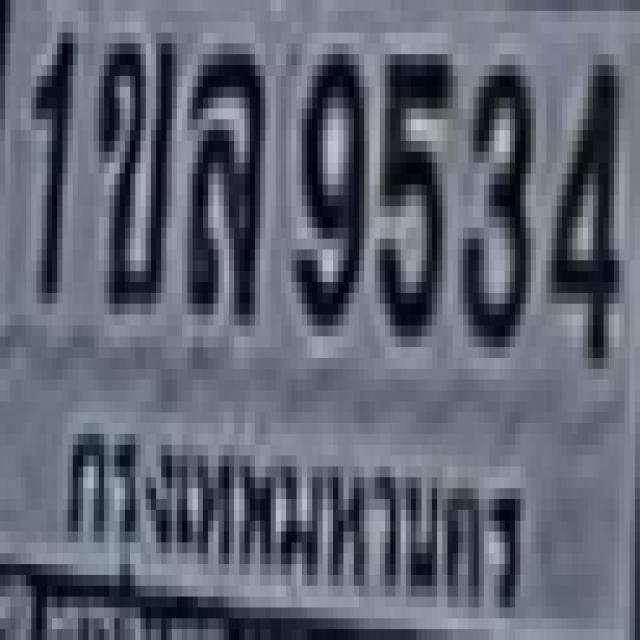-: (94, 27, 172, 298), (185, 38, 258, 309)
1: (31, 22, 73, 293)
3: (458, 55, 525, 336)
4: (546, 43, 614, 358)
5: (374, 44, 448, 326)
9: (291, 43, 359, 314)
BKK: (45, 390, 528, 640)
